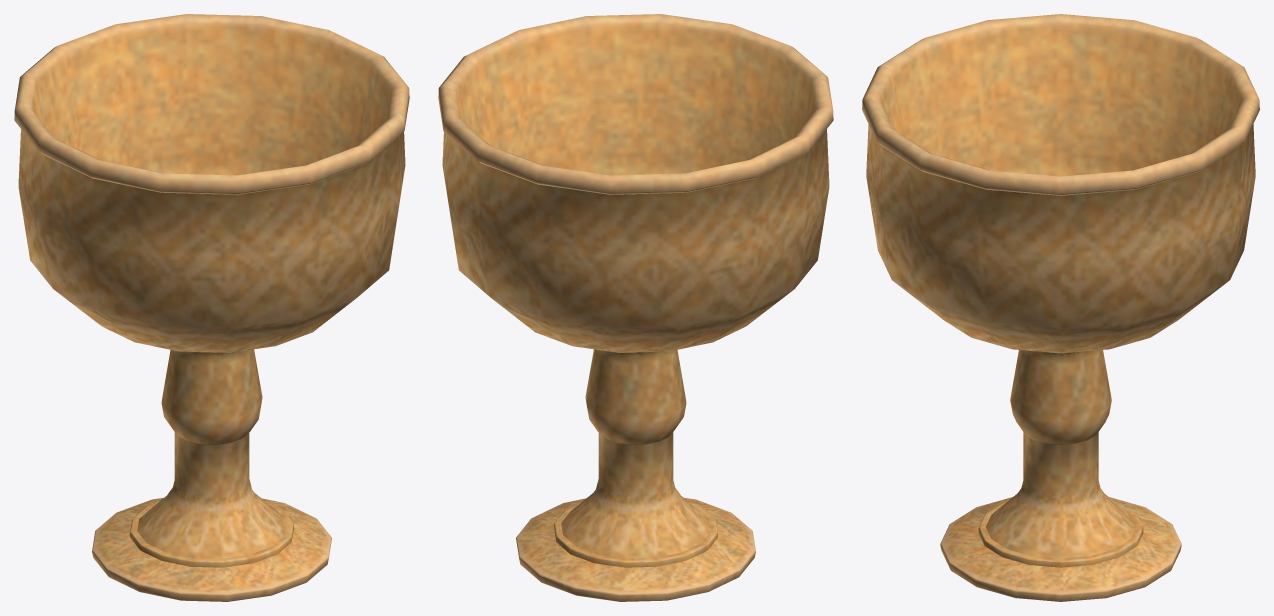
The model's file is Cup_A.fbx.
The picture shows the model from 3 angles, left to right: view 1: azimuth 30°, elevation 25°; view 2: azimuth 150°, elevation 25°; view 3: azimuth 270°, elevation 25°; orthographic projection.
Visible parts, largest first — view 1: Cup_A; view 2: Cup_A; view 3: Cup_A.
Boxes of the visible parts, x1,y1,x2,y2 form: Cup_A: (14, 14, 409, 601); Cup_A: (438, 14, 833, 601); Cup_A: (862, 14, 1259, 601).
Bounding box in the file's own units: 0.2682 × 0.3397 × 0.2682.
